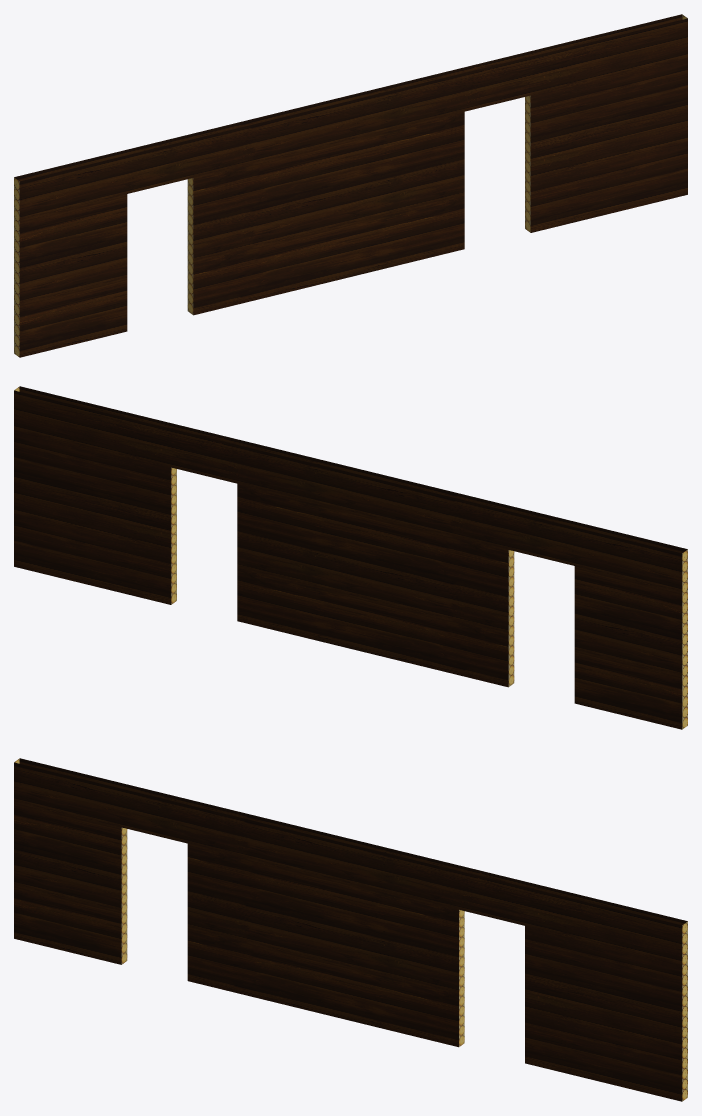
File: Inner wall 2.fbx
3 views of the same model, one above another, from view 1: azimuth 30°, elevation 25°; view 2: azimuth 150°, elevation 25°; view 3: azimuth 330°, elevation 25° (orthographic).
Parts seen in each view (by area): view 1: Inner_2; view 2: Inner_2; view 3: Inner_2.
Boxes of the visible parts, box(x1,y1,x2,y2) form: Inner_2: box(14, 14, 687, 357); Inner_2: box(14, 386, 687, 729); Inner_2: box(14, 758, 687, 1101).
Bounding box in the file's own units: 11.39 × 2.87 × 0.1702.
